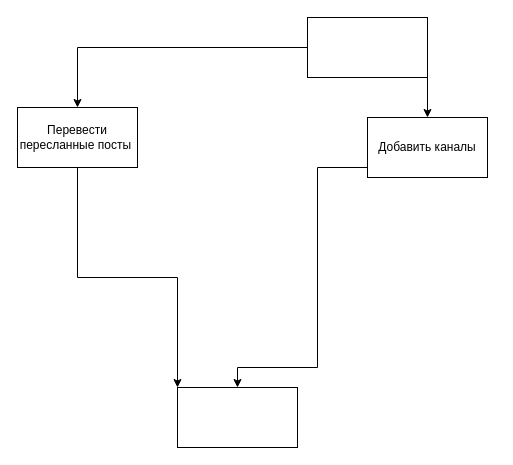
Image size: 513x465. Some labels were removed from this diagram. Here are the shapes that lost their labels. From the top down, the centre of each, then its label:
the point at 367,47: старт
the point at 237,417: Получение перевода постов
